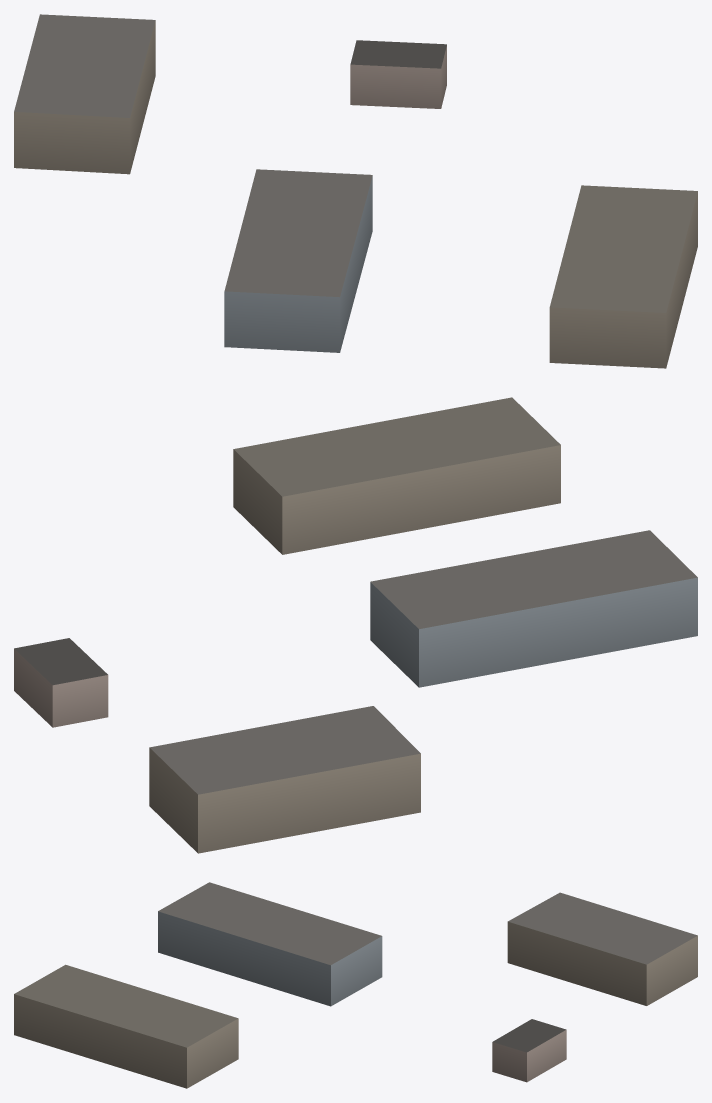
3 views of the same model, one above another, from view 1: azimuth 30°, elevation 25°; view 2: azimuth 150°, elevation 25°; view 3: azimuth 270°, elevation 25° (orthographic). The views are drawn at different scales.
Visible parts, largest first — view 1: buildings; view 2: buildings; view 3: buildings.
Boxes of the visible parts, box(x1,y1,x2,y2) form: buildings: box(14, 14, 697, 368); buildings: box(14, 397, 697, 853); buildings: box(14, 882, 697, 1088).
Size of what is drawn, in the model's own units: 56.69 by 6.8 by 99.17.
